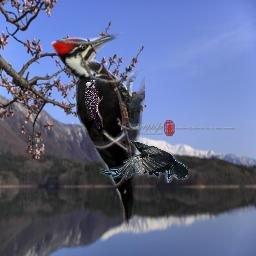Crow: (99, 140, 188, 183)
Woodpecker: (51, 32, 145, 235), (85, 79, 103, 129)
